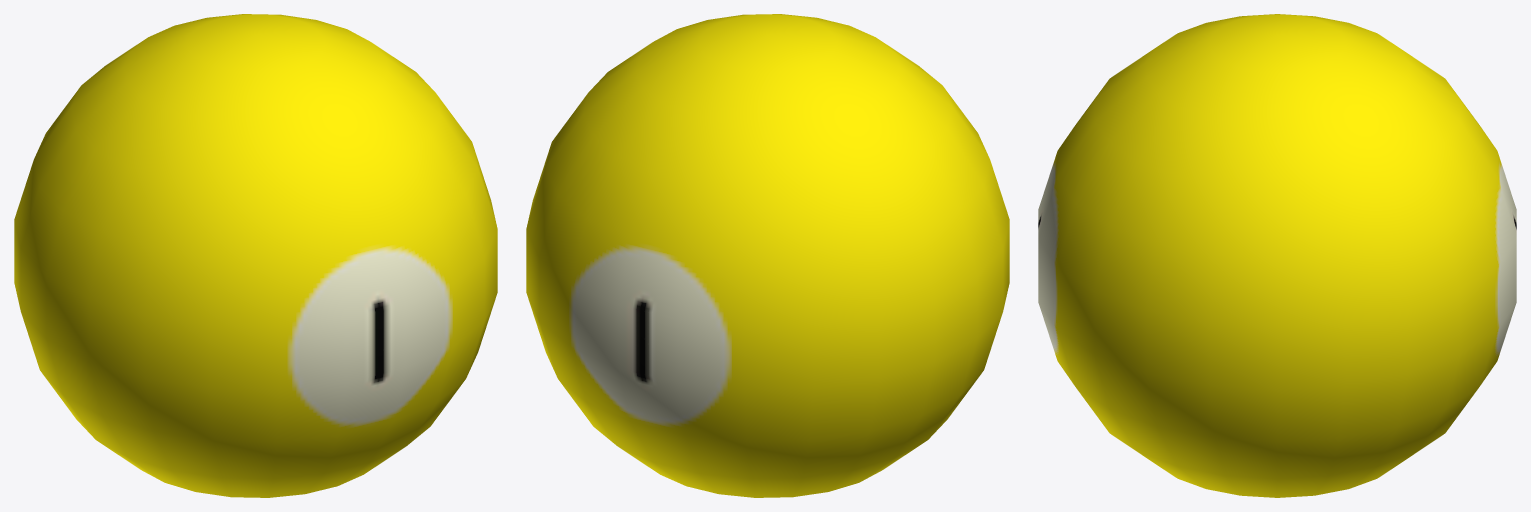
Rendered from Ball_1.FBX.
The picture shows the model from 3 angles, left to right: view 1: azimuth 30°, elevation 25°; view 2: azimuth 150°, elevation 25°; view 3: azimuth 270°, elevation 25°; orthographic projection.
Visible parts, largest first — view 1: Ball_1; view 2: Ball_1; view 3: Ball_1.
Boxes of the visible parts, x1,y1,x2,y2 form: Ball_1: (14,14,497,497); Ball_1: (526,14,1009,497); Ball_1: (1038,14,1516,497).
Size of the model in its own units: 5.64 by 5.7 by 5.58.
